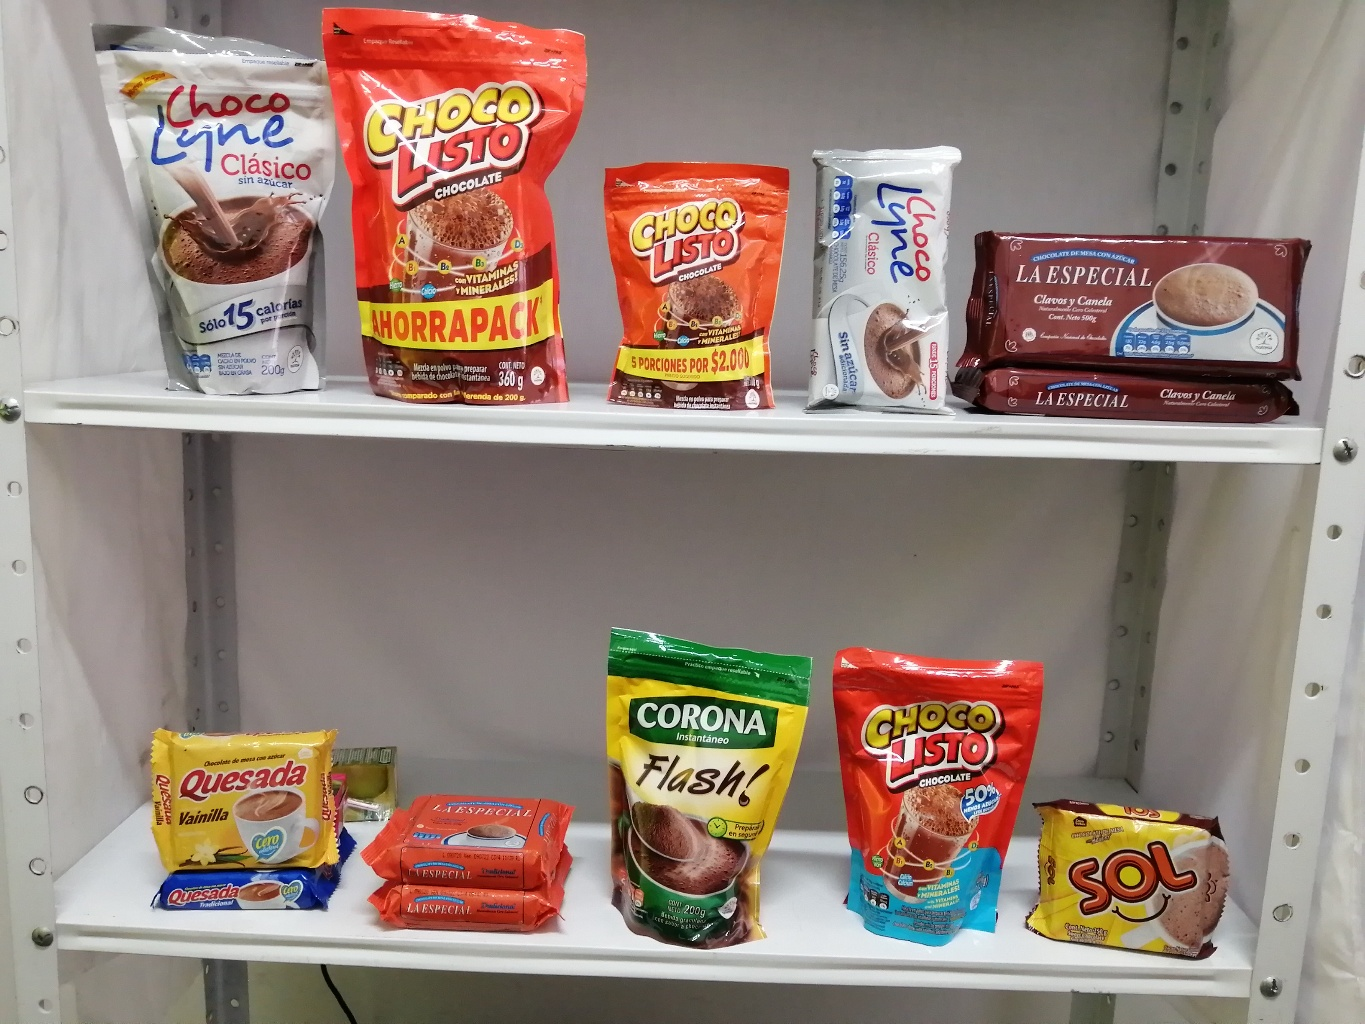COL0170103DYP36000: (314, 1, 614, 416)
COL0170104DYP20000: (824, 637, 1044, 956)
